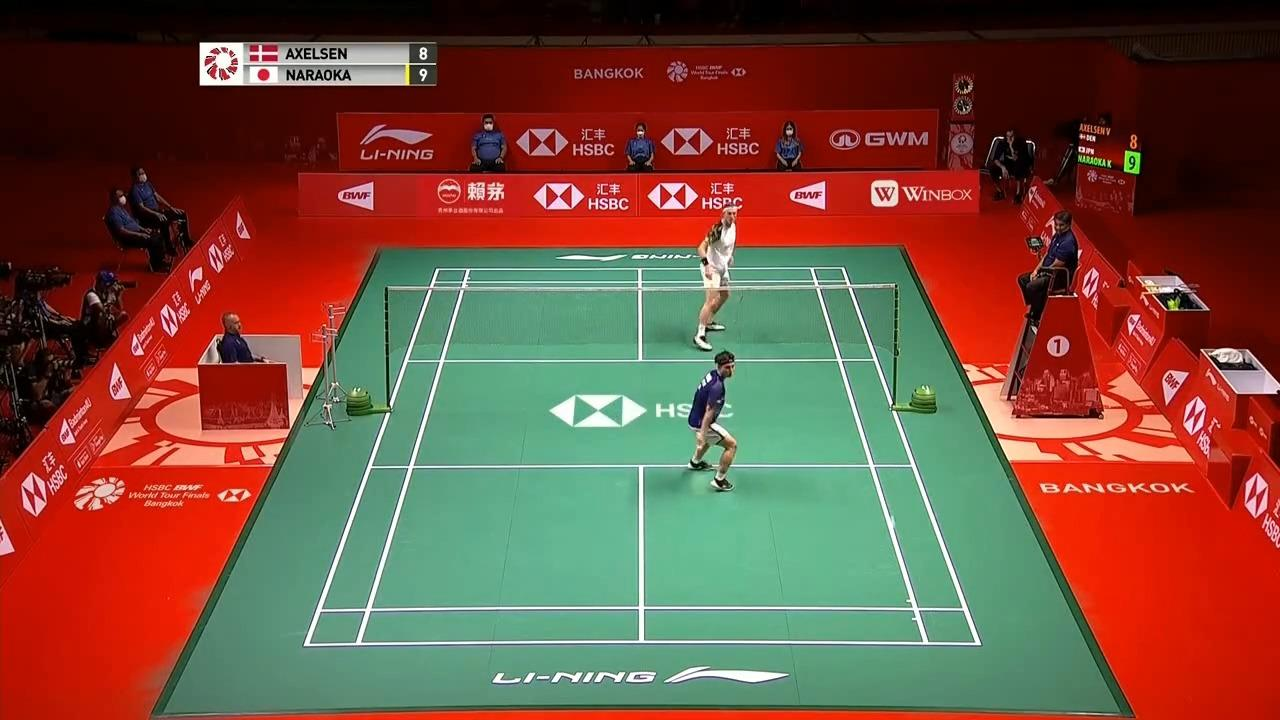shuttle: (886, 515, 897, 528)
